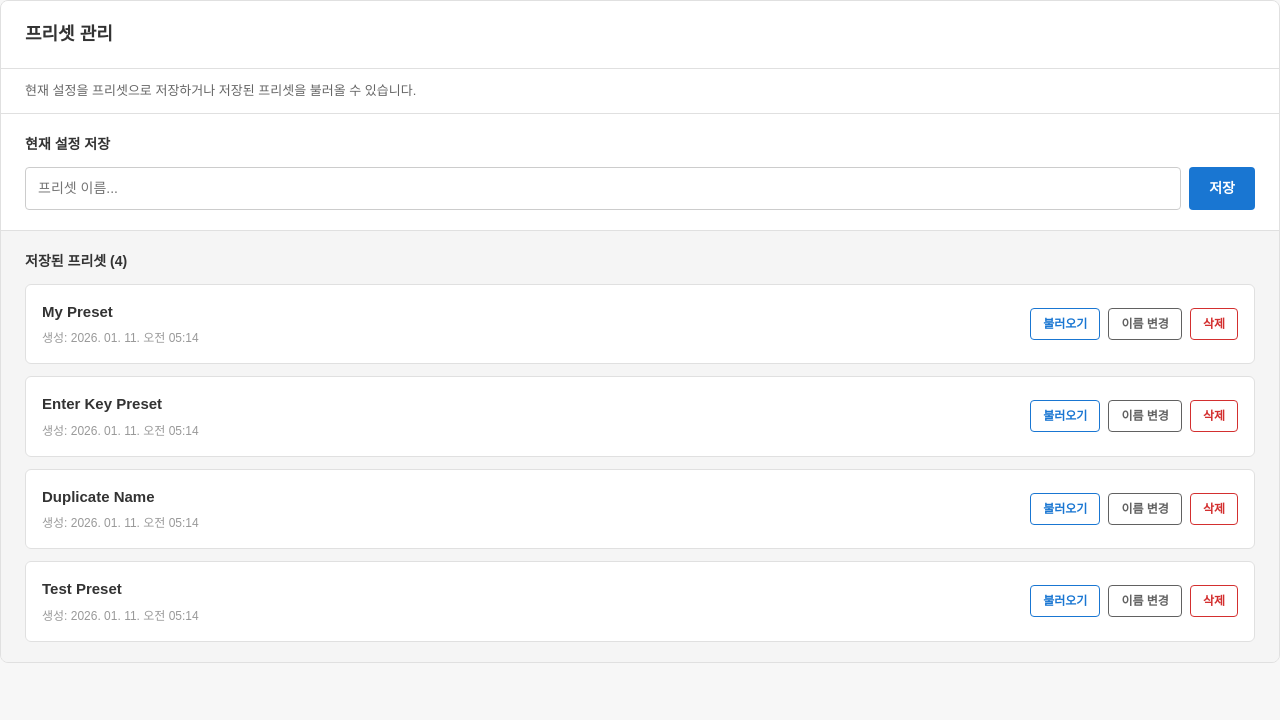
it: PresetManager › should delete preset when confirmed
Note: Save a preset first
Type "To Delete" into the field with placeholder "프리셋 이름..." at (603, 188), box 25,166 -> 1181,210
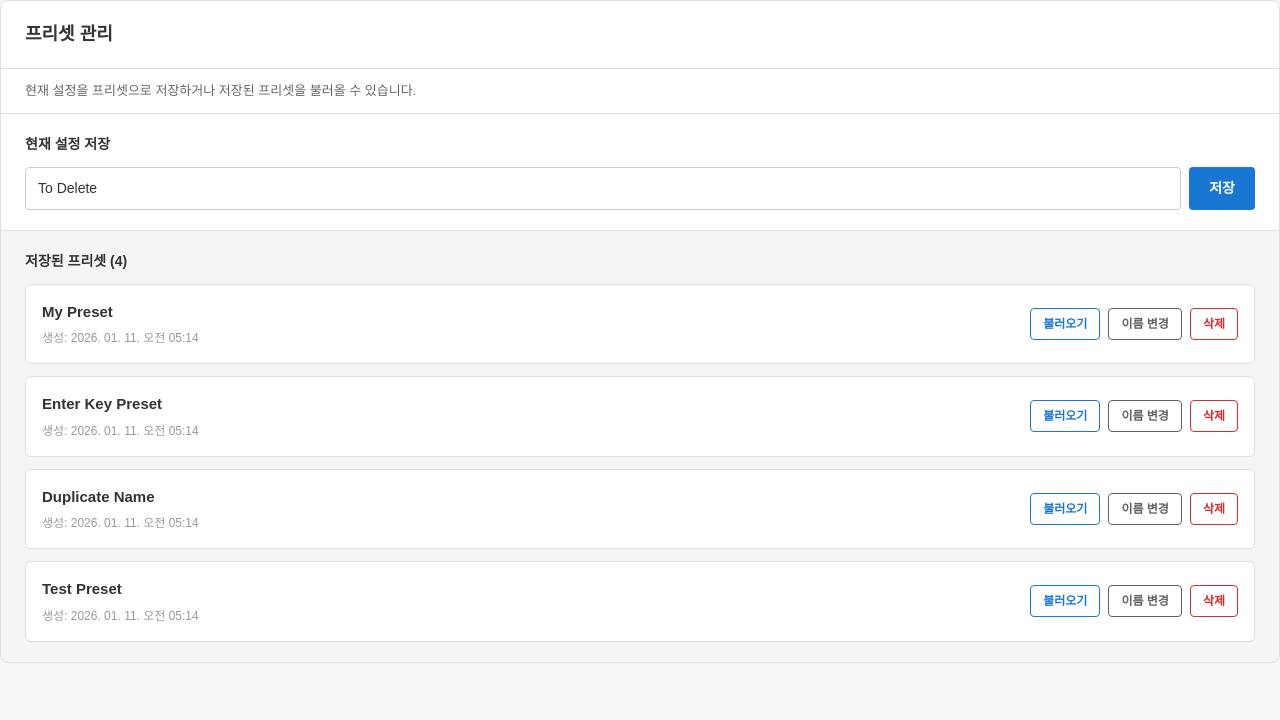
Click the button with aria-label "프리셋 저장" at (1222, 188), box 1189,166 -> 1255,210
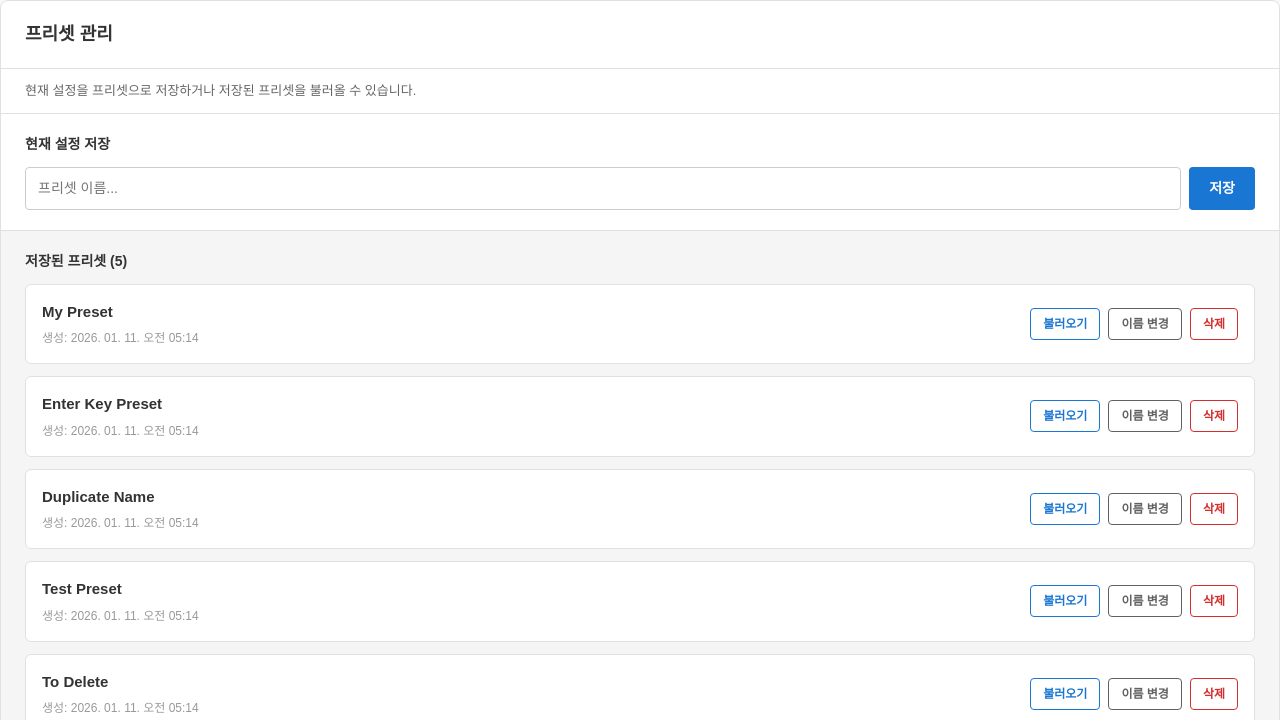
Now the heading "To Delete" is shown, box 42,672 -> 108,690
Note: Delete the preset
Click the button with aria-label "To Delete 프리셋 삭제" at (1214, 694), box 1190,678 -> 1238,710
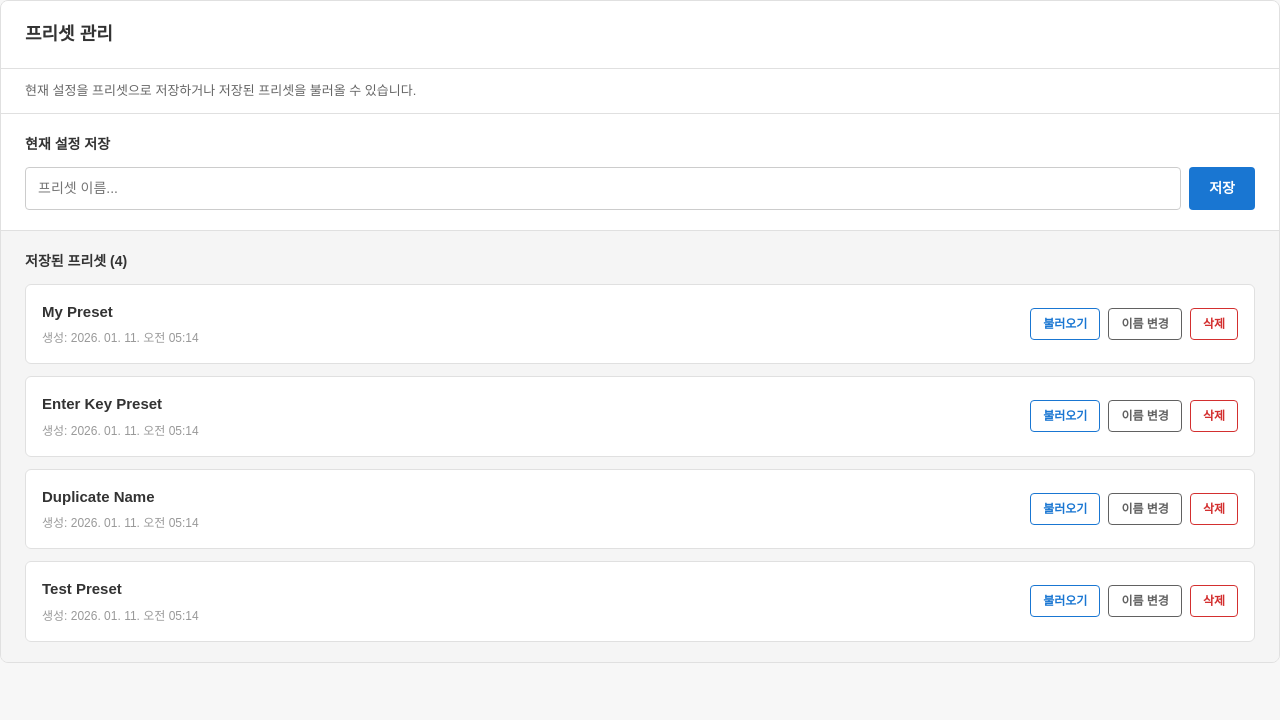
Now the heading "To Delete" is gone
